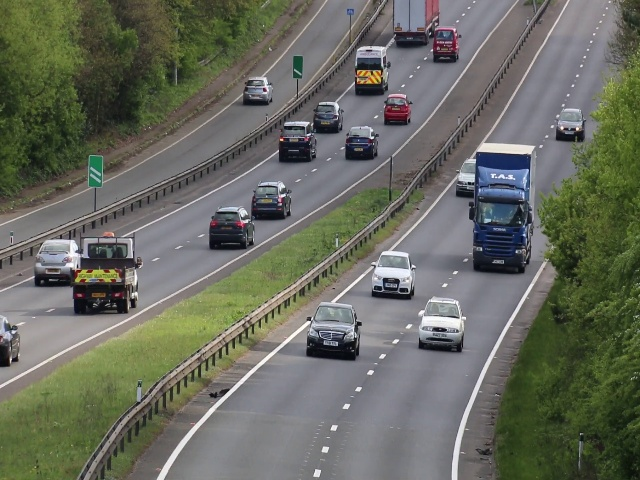car: (469, 171, 534, 276), (70, 233, 143, 314), (304, 300, 364, 359), (417, 294, 467, 351), (367, 249, 419, 299), (33, 236, 81, 283), (207, 207, 255, 251), (392, 1, 440, 44), (353, 44, 390, 96), (250, 179, 293, 220), (278, 119, 318, 163), (343, 125, 378, 161), (556, 105, 586, 144), (432, 24, 461, 64), (1, 312, 22, 365), (383, 90, 412, 128), (242, 73, 274, 106), (312, 101, 343, 131), (456, 156, 476, 196)
